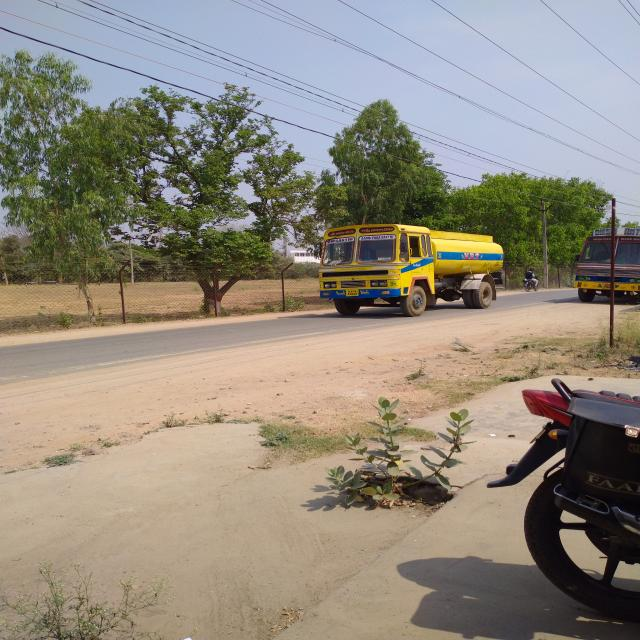Bike: (487, 370, 640, 631)
Truck: (317, 221, 509, 321), (576, 227, 632, 301)
